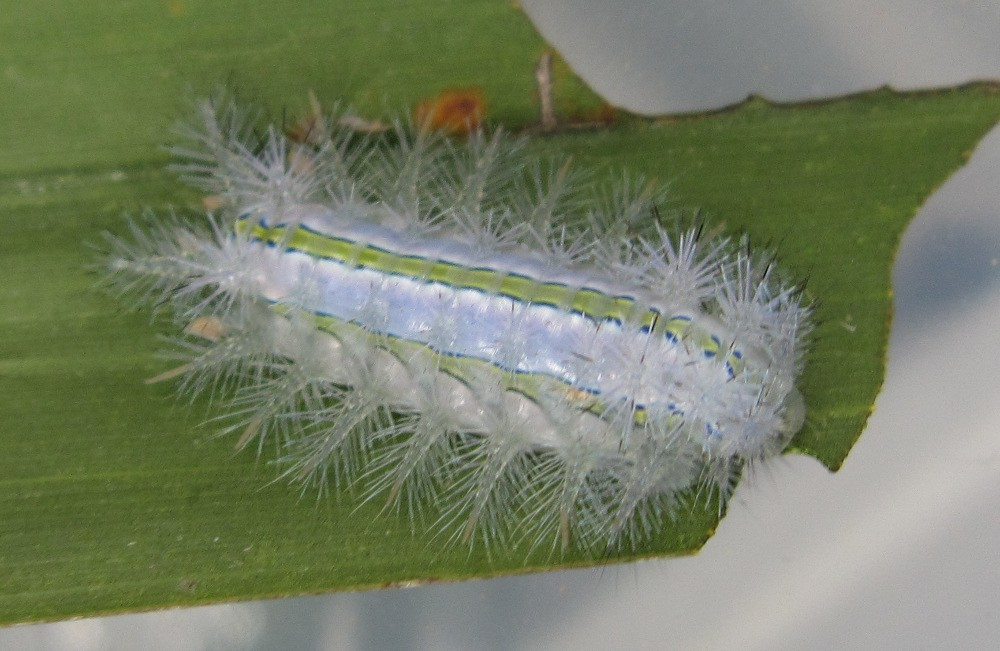Pest! (nettle_caterpillar): (80, 100, 837, 525)
